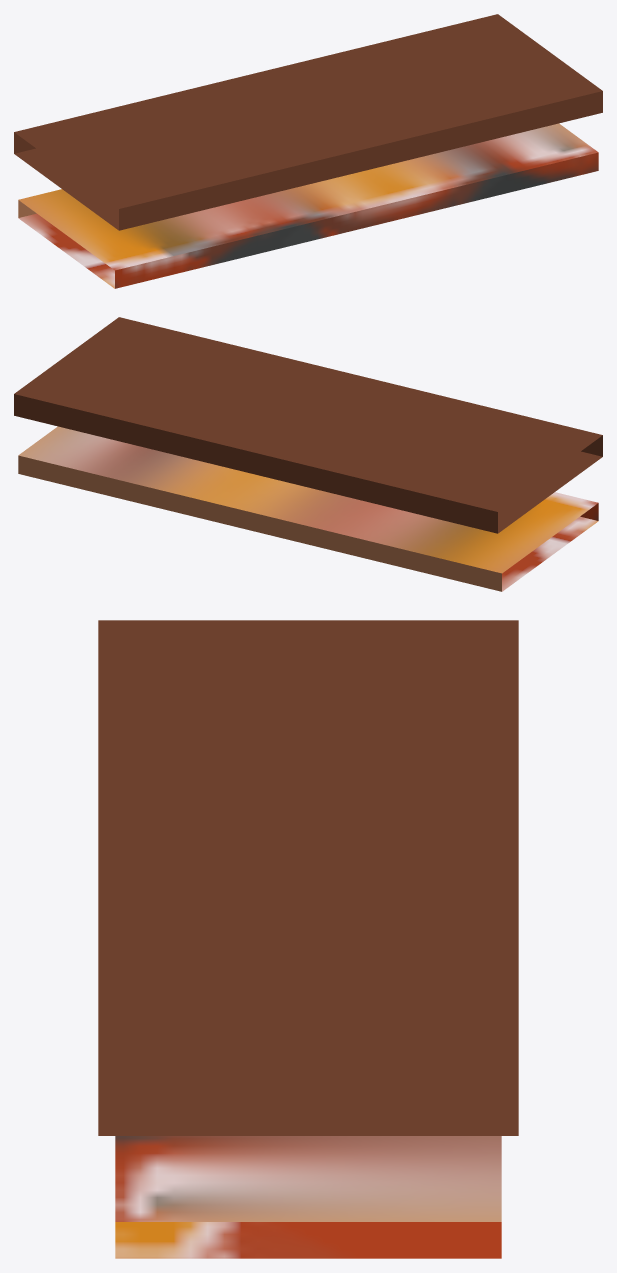
The model's file is section-5.obj.
3 renders of one model, top to bottom at view 1: azimuth 30°, elevation 25°; view 2: azimuth 150°, elevation 25°; view 3: azimuth 270°, elevation 25°, orthographic. The views are drawn at different scales.
Size of the model in its own units: 1 by 0.1638 by 0.3761.
1 material, 1 textured.
